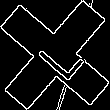L_NW: (26, 27, 84, 83)
